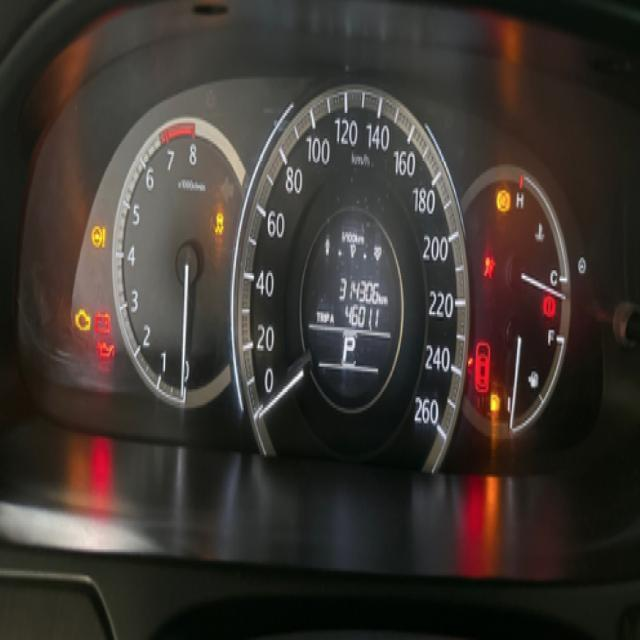Electronic Power Steering: (90, 218, 112, 260)
